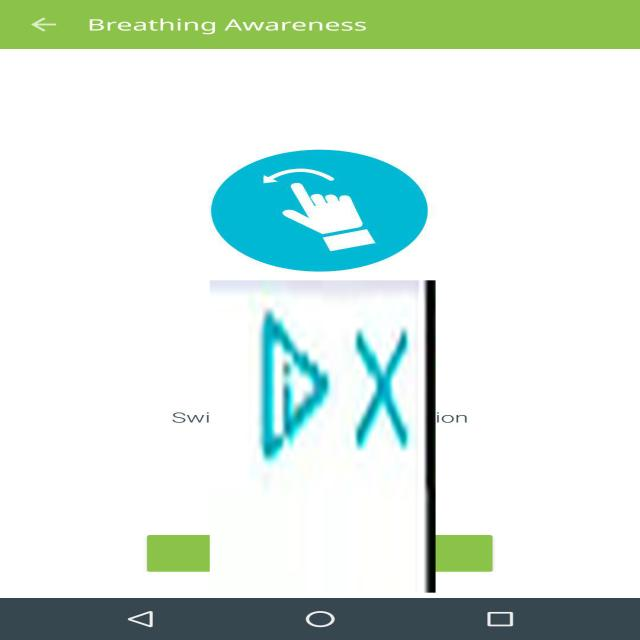sneaking: (210, 280, 436, 593)
